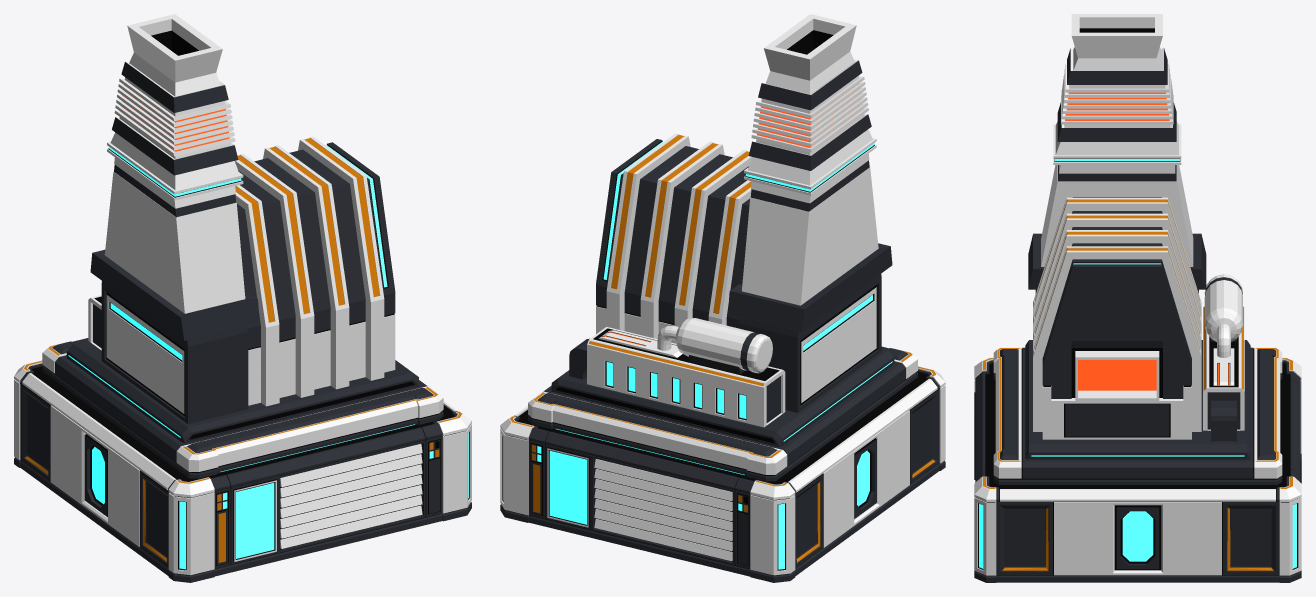
Rendered from SM_Thermal_T3.fbx.
3 renders of one model, left to right at view 1: azimuth 30°, elevation 25°; view 2: azimuth 150°, elevation 25°; view 3: azimuth 270°, elevation 25°, orthographic. The views are drawn at different scales.
Parts seen in each view (by area): view 1: SM_Thermal_T3; view 2: SM_Thermal_T3; view 3: SM_Thermal_T3.
Boxes of the visible parts, x1=… form: SM_Thermal_T3: x1=14, y1=14, x2=471, y2=582; SM_Thermal_T3: x1=500, y1=14, x2=945, y2=582; SM_Thermal_T3: x1=974, y1=14, x2=1301, y2=582.
Bounding box in the file's own units: 300 × 458 × 300.
